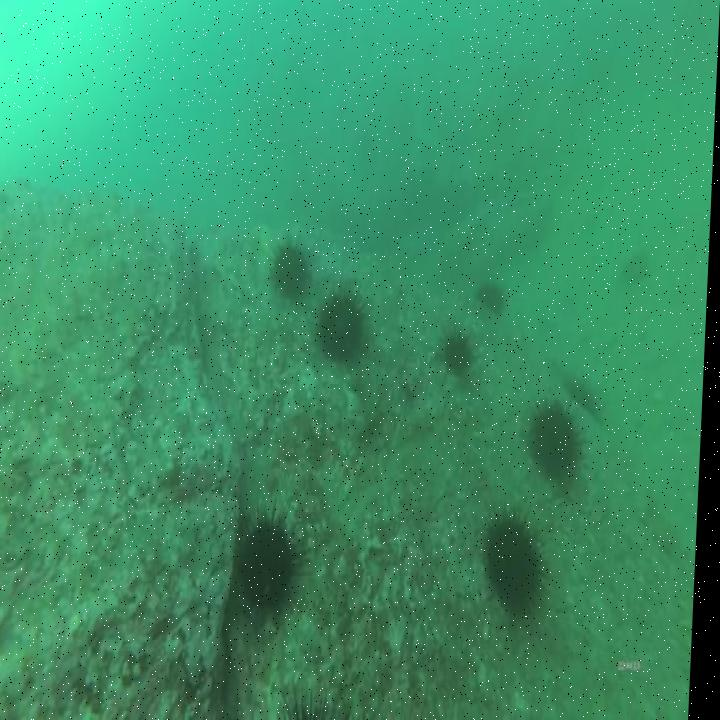echinus: (241, 510, 309, 626), (485, 510, 550, 617), (532, 398, 587, 482), (318, 288, 373, 366), (271, 234, 320, 308), (440, 323, 479, 380), (473, 274, 512, 318)
